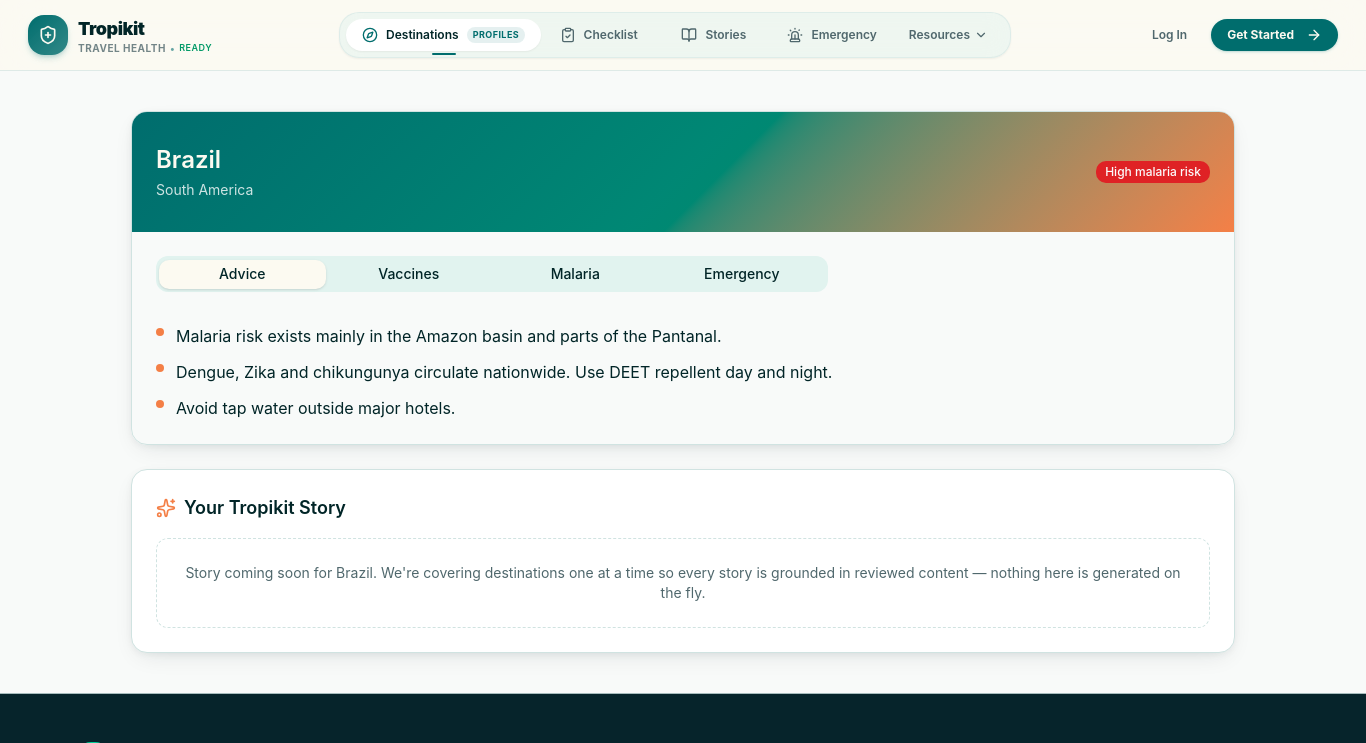
Test: Product Owner walkthrough: first-time traveler using Tropikit › Q3: vaccines reachable in exactly one click from destination detail
Expected: the heading "Brazil" is shown, 156,145 -> 221,174
Click the tab "Vaccines". click: (409, 274)
box: 326,260 -> 492,288
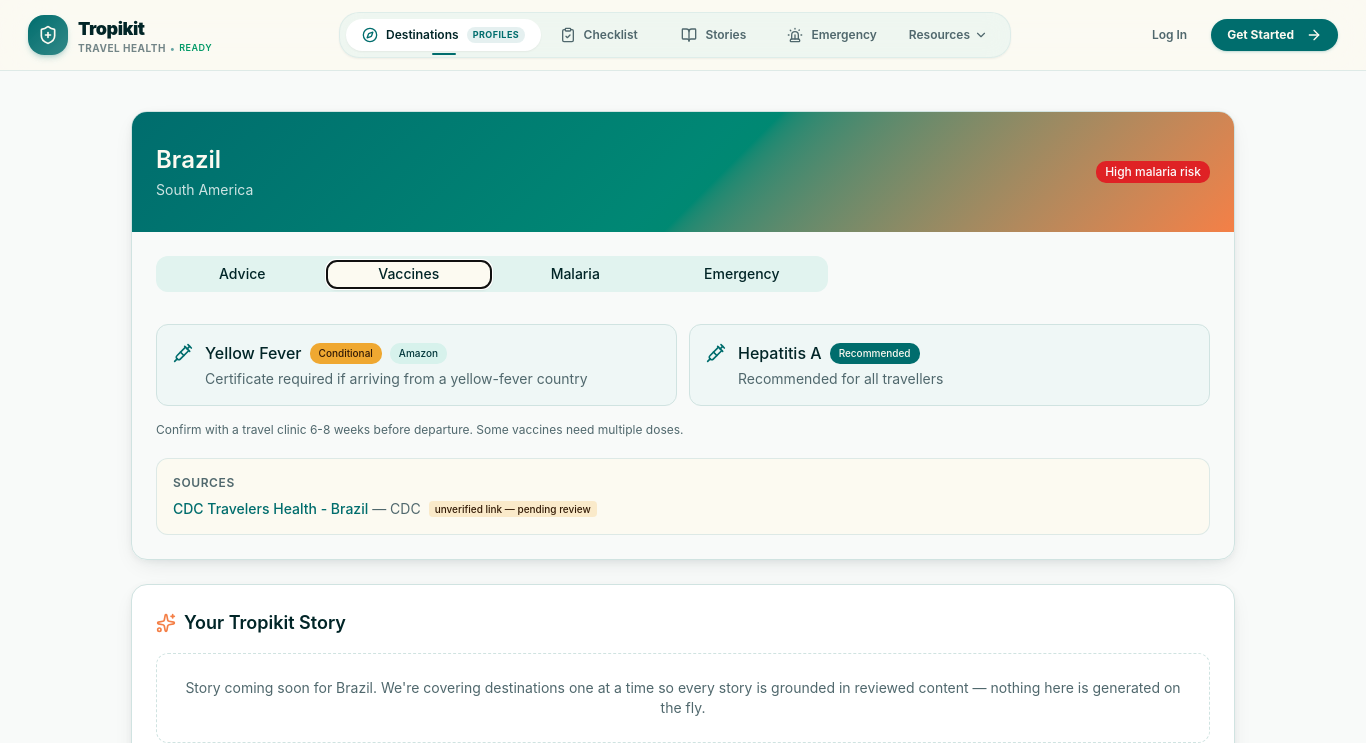
Now the text "Yellow Fever" is shown, box 205,341 -> 302,365
Now the text "Certificate required if arriving from a yellow-fever country" is shown, box 205,370 -> 588,387
